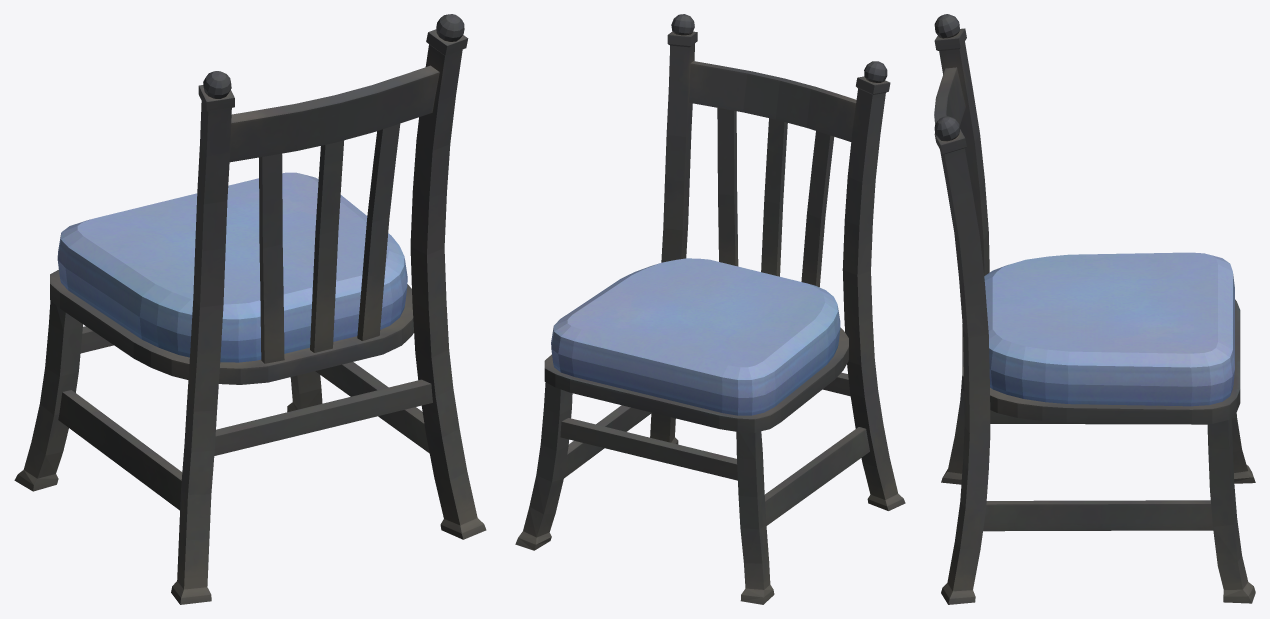
The model's file is P_Chair_015_S1_M01.obj.
3 views of the same model, side by side, from view 1: azimuth 30°, elevation 25°; view 2: azimuth 150°, elevation 25°; view 3: azimuth 270°, elevation 25° (orthographic). The views are drawn at different scales.
Size of the model in its own units: 0.7366 by 1.2 by 0.7454.
Materials: 1 (1 with a texture image).
